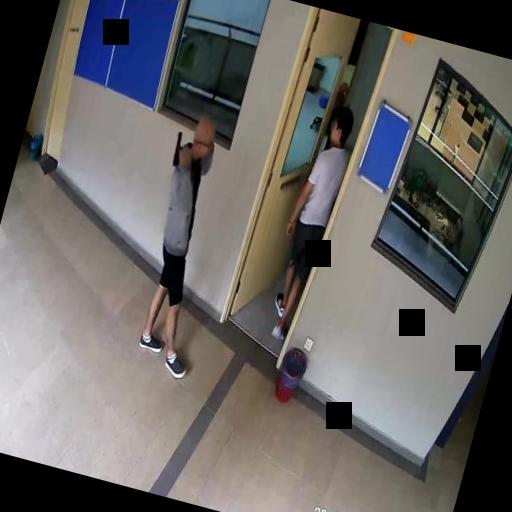Handgun: (168, 128, 192, 167)
